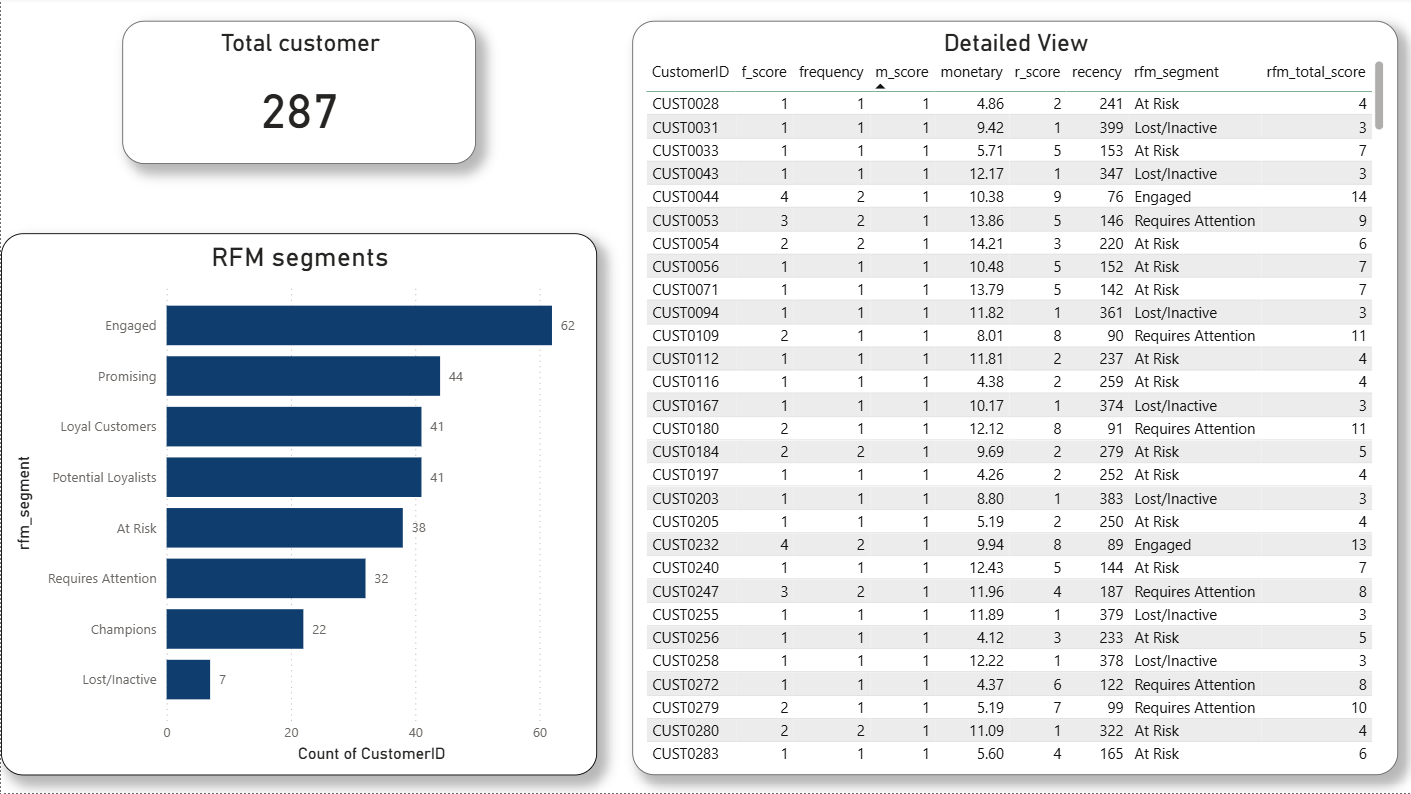

The dashboard page shown, as its layout file describes it:
{"tool":"powerbi","page":{"name":"Page 1","canvas":[1280,720],"ordinal":0},"visuals":[{"type":"tableEx","title":"Detailed View","fields":{"Values":["rfm_segments_final.CustomerID","rfm_segments_final.f_score","rfm_segments_final.frequency","rfm_segments_final.m_score","rfm_segments_final.monetary","rfm_segments_final.r_score","rfm_segments_final.recency","rfm_segments_final.rfm_segment","rfm_segments_final.rfm_total_score"]},"box":[571.3,21.6,692.5,682.4],"z":0},{"type":"clusteredBarChart","title":"RFM segments","fields":{"Category":["rfm_segments_final.rfm_segment"],"Y":["CountNonNull(rfm_segments_final.CustomerID)"]},"box":[0,213.5,539.6,490.5],"z":1000},{"type":"card","title":"Total customer","fields":{"Values":["rfm_segments_final.total_customer"]},"box":[109.6,21.6,320.3,129.8],"z":2000}]}

Visuals, with their boxes in screenshot pixels (x1, y1, x2, y2), scaled from the page's 1280x720 canvas onto the 1411x794 screenshot:
"Detailed View" tableEx: <box>630,24,1393,776</box>
"RFM segments" clusteredBarChart: <box>0,235,595,776</box>
"Total customer" card: <box>121,24,474,167</box>
